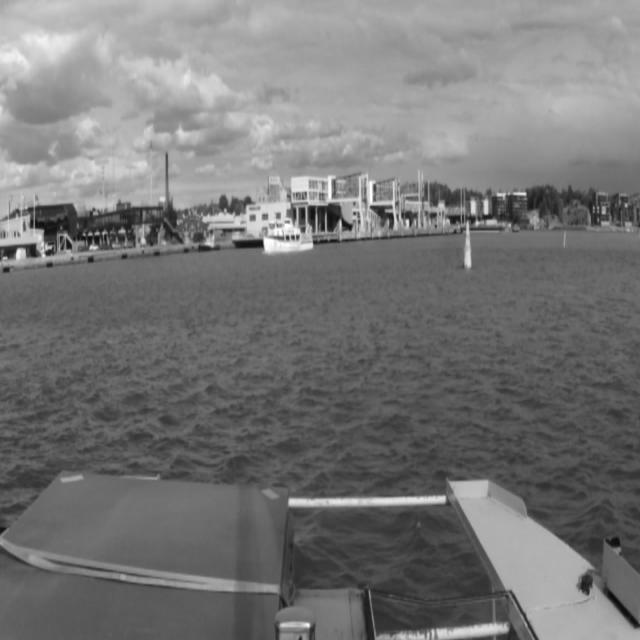buoy: (463, 222, 472, 268)
ship: (262, 218, 314, 252)
